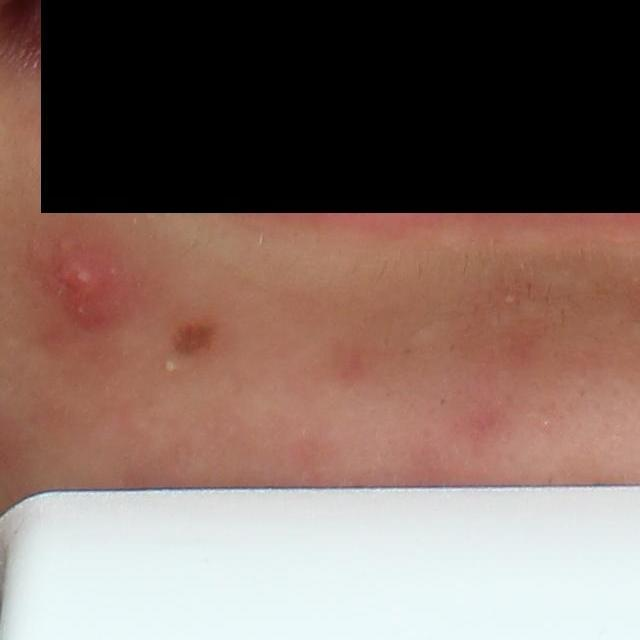comedo: (503, 293, 517, 306)
nevus: (166, 315, 226, 359)
papule: (49, 235, 118, 303)
